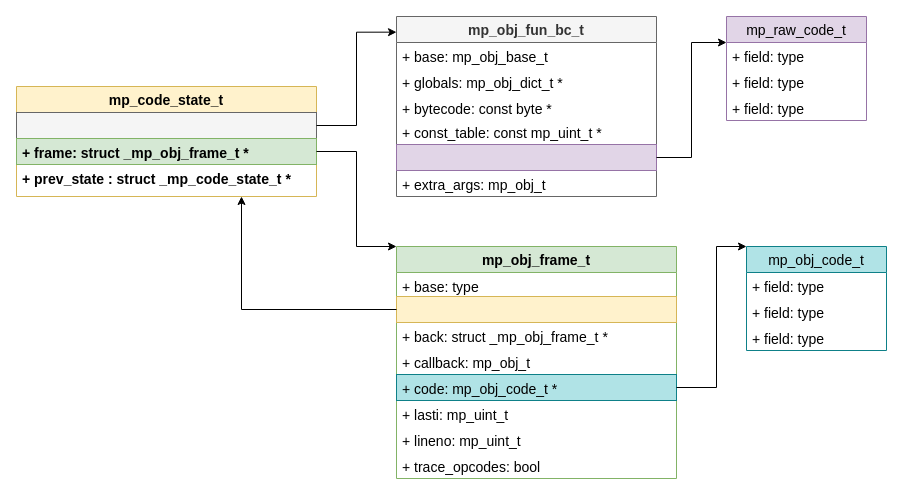
This 903x495 diagram has some shape labels left out. Here are the shapes that lost their labels. From the top down, the centre of each, then its label:
At point (166, 125): "+ fun_bc: mp_obj_fun_bc_t*".
At point (526, 157): "+ rc: const struct _mp_raw_code_t *".
At point (536, 309): "+ code_state: const mp_code_state_t *".
